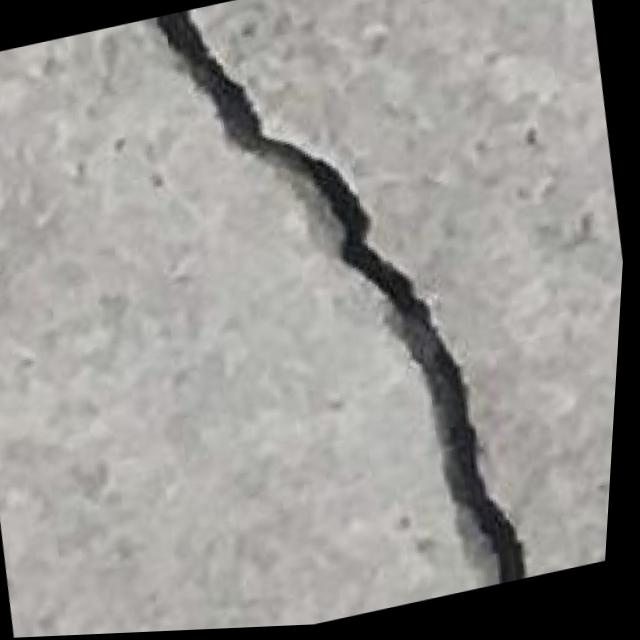Crack: (121, 0, 567, 635)
